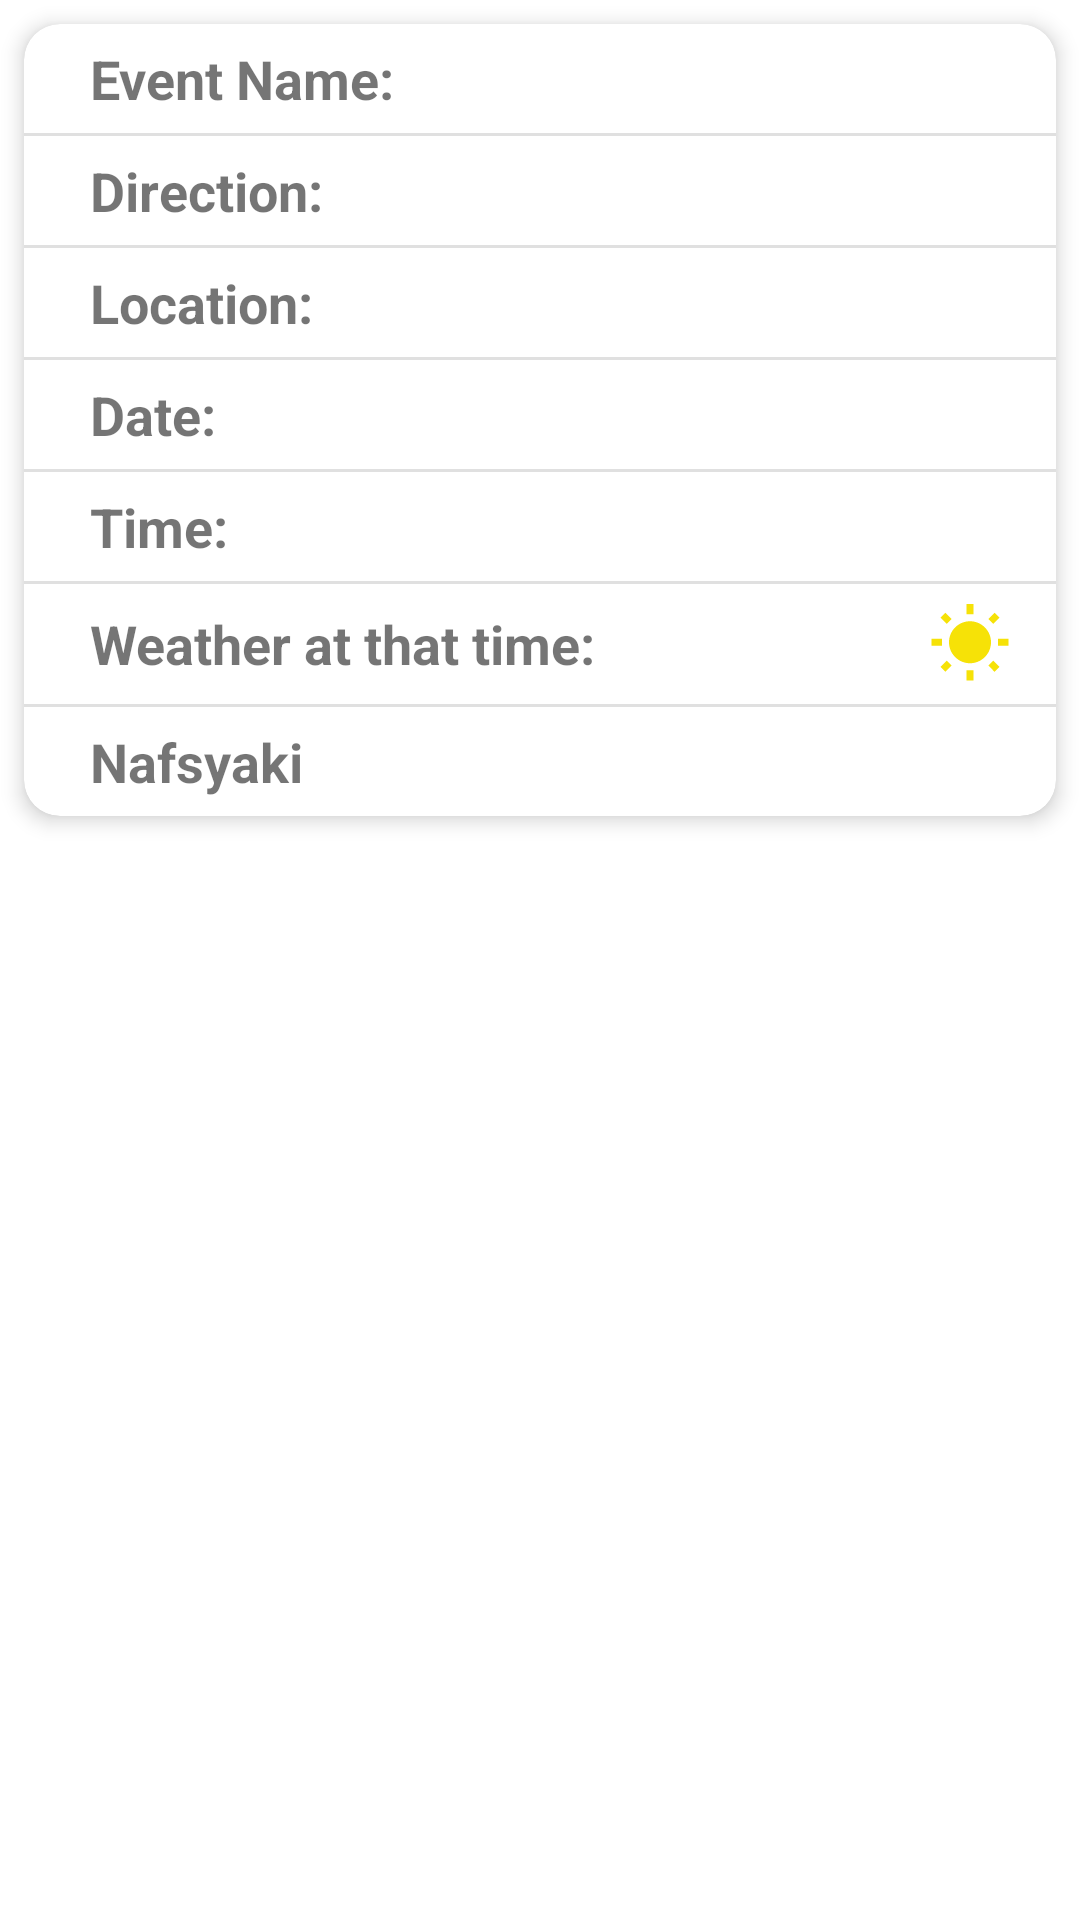

Point at icon controls on the screen. Image size 1080×1920, points as (x,y).
weather sunny: (970,642)
